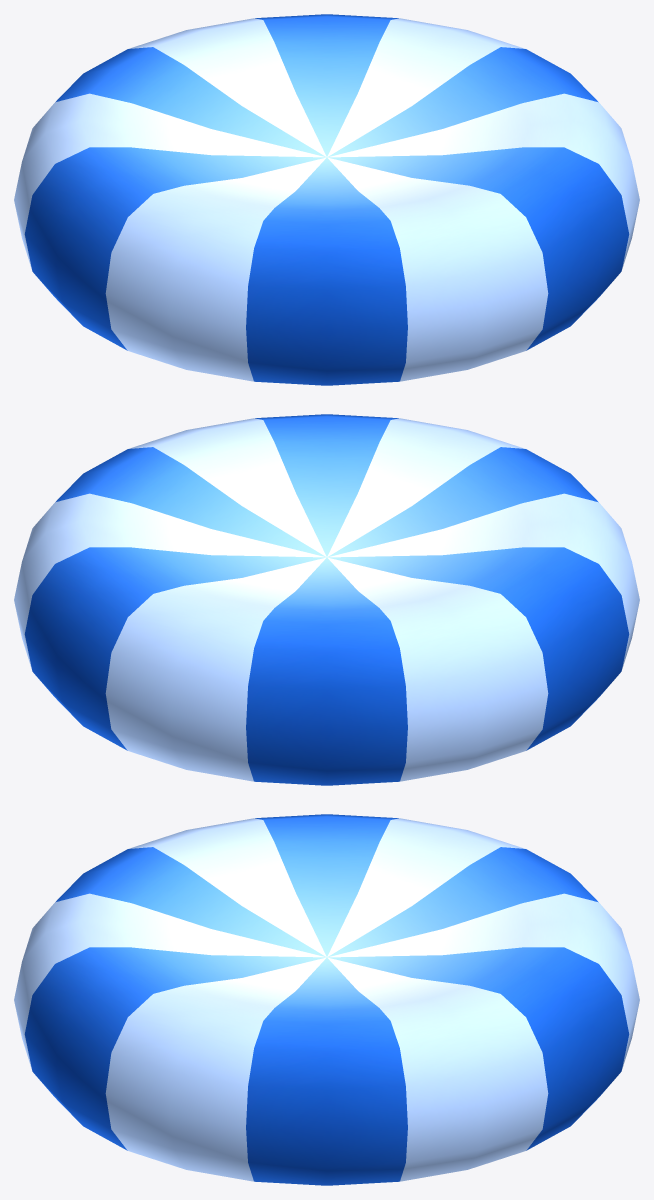
Rendered from Candy_12.glb.
The picture shows the model from 3 angles, top to bottom: view 1: azimuth 30°, elevation 25°; view 2: azimuth 150°, elevation 25°; view 3: azimuth 270°, elevation 25°; orthographic projection.
Parts seen in each view (by area): view 1: Candy_12; view 2: Candy_12; view 3: Candy_12.
Part boxes in pixels (<box>): Candy_12: <box>14,14,639,385</box>; Candy_12: <box>14,414,639,785</box>; Candy_12: <box>14,814,639,1185</box>.
Bounding box in the file's own units: 3.37 × 0.9452 × 3.37.
1 material, 1 textured.
